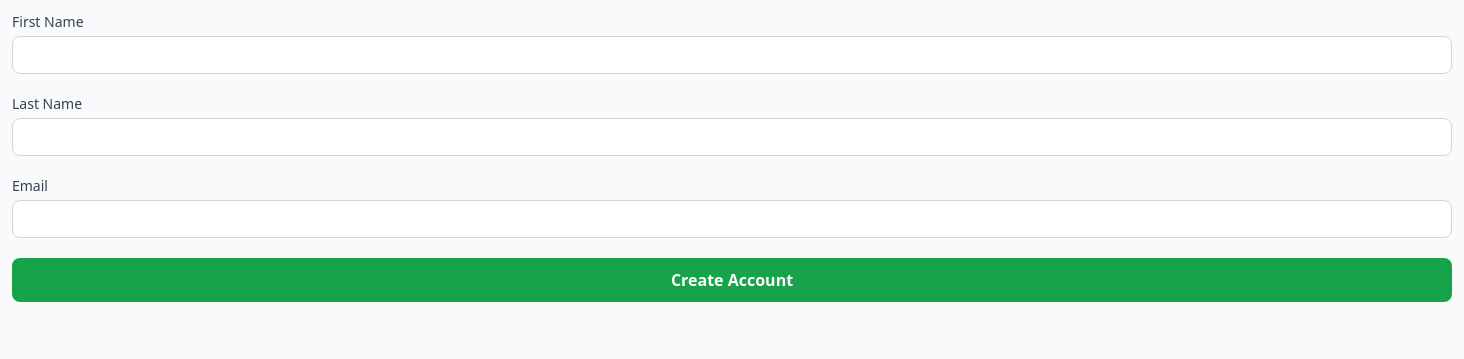
Test: RegisterForm › shows field-level error messages from API 400 response
Type "x" into the field labelled "First Name".
click(732, 55); type("x")  # box [12,36,1452,74]
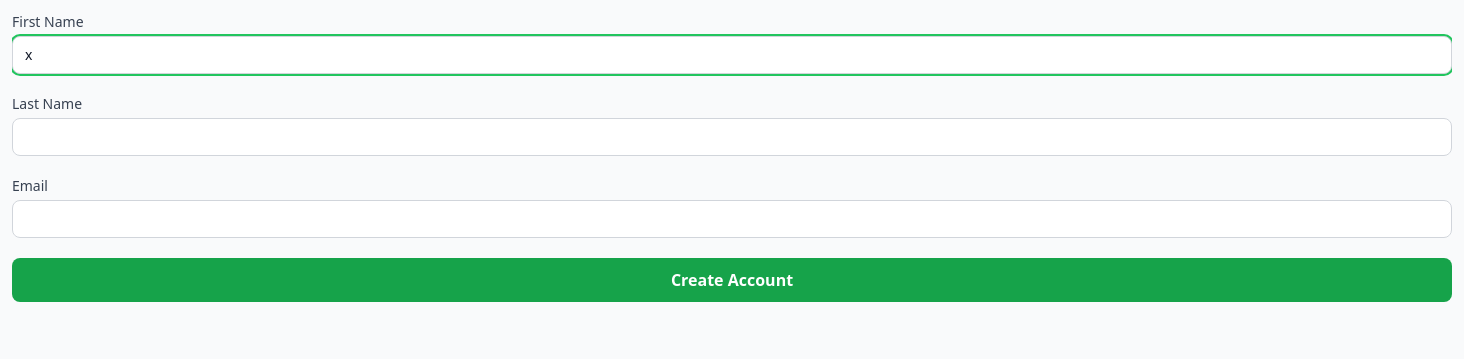
Type "y" into the field labelled "Last Name".
click(732, 137); type("y")  # box [12,118,1452,156]
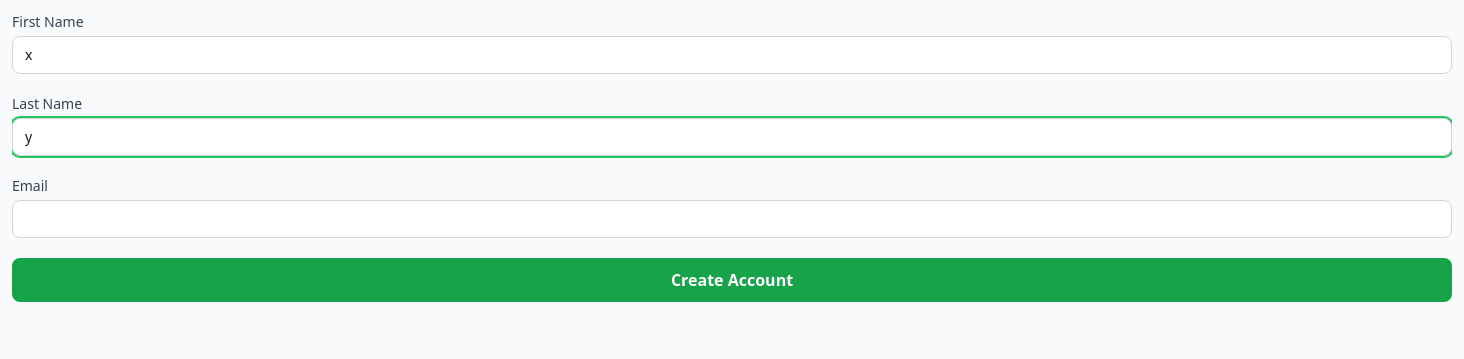
Type "bad@test.com" into the field labelled "Email".
click(732, 219); type("bad@test.com")  # box [12,200,1452,238]
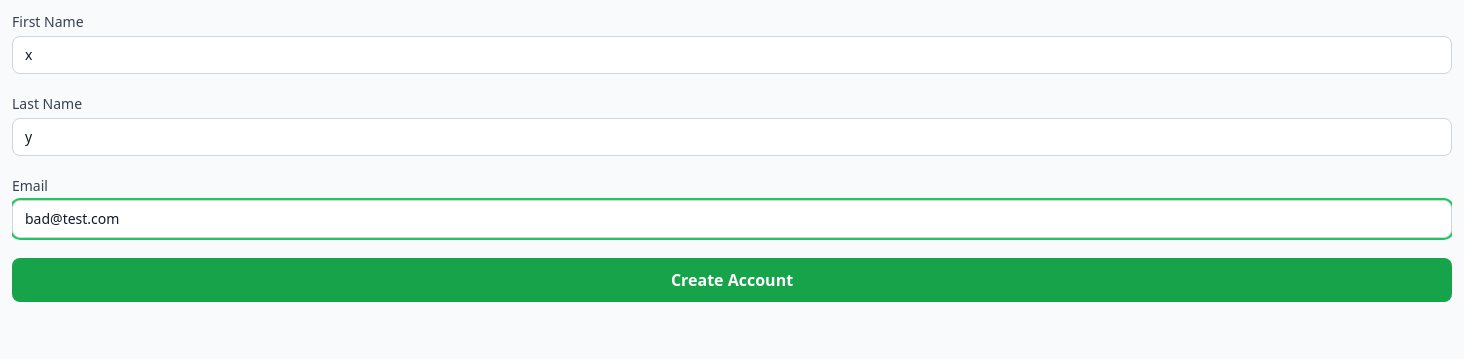
Click the button "Create Account".
click(732, 280)  # box [12,258,1452,302]
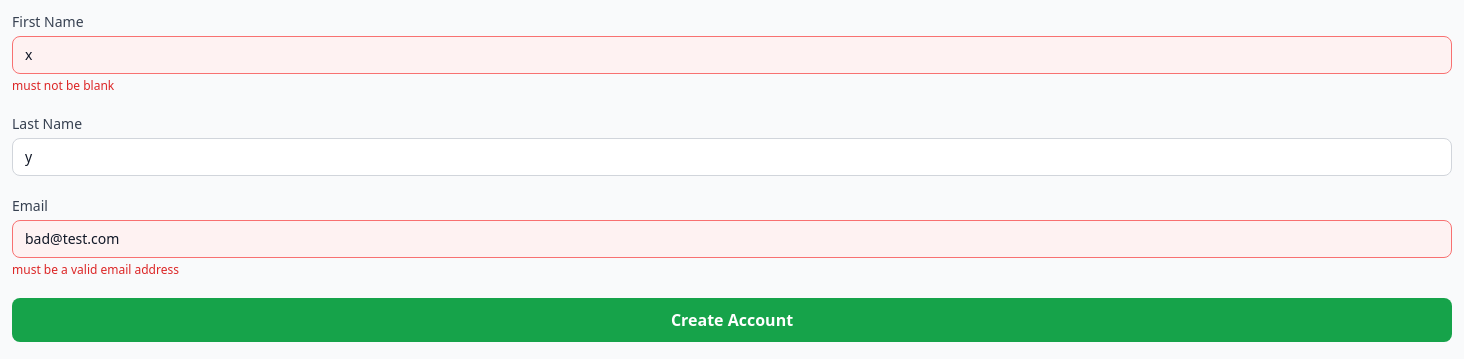
Expected: the text "must not be blank" is shown, [12,77,114,94]
Expected: the text "must be a valid email address" is shown, [12,261,179,278]
